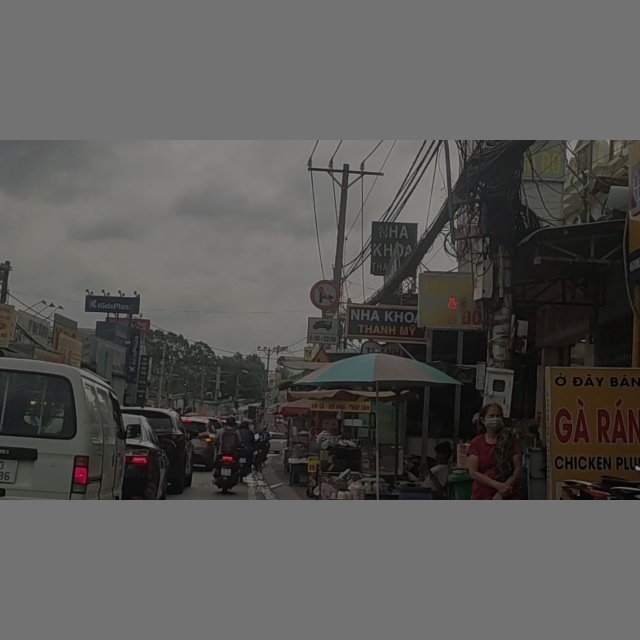P.139: (309, 279, 340, 309)
S.505a*Xe tai: (308, 318, 339, 341)
